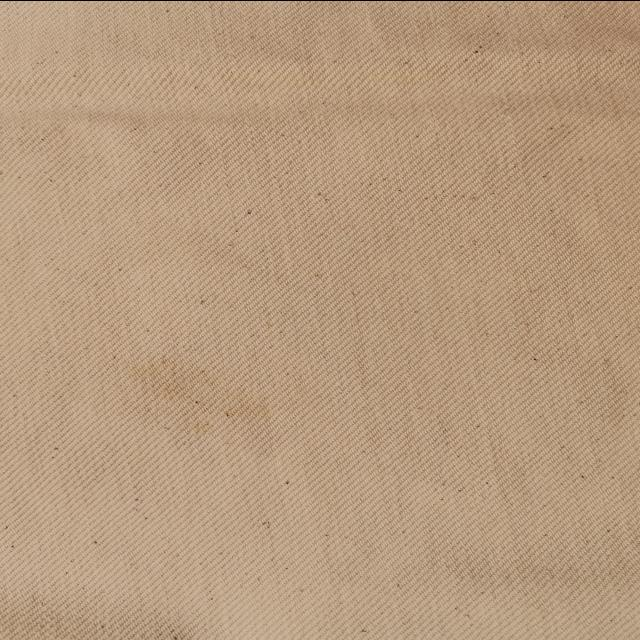taaaches: (96, 355, 252, 441)
